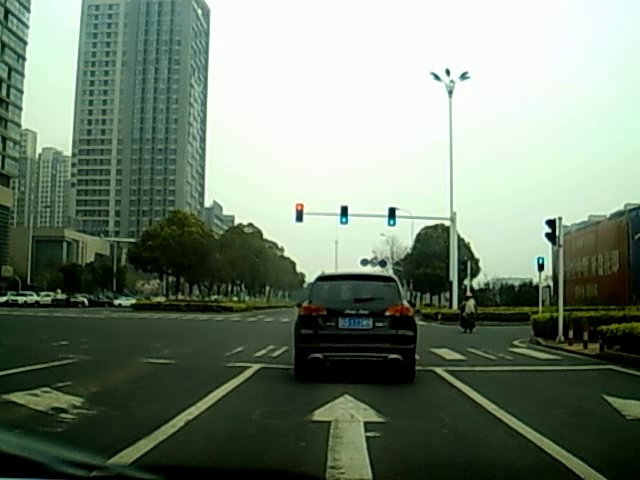Traffic_Light_go: (389, 207, 396, 226), (340, 207, 347, 225)
Traffic_Light_stop: (296, 203, 302, 223)
